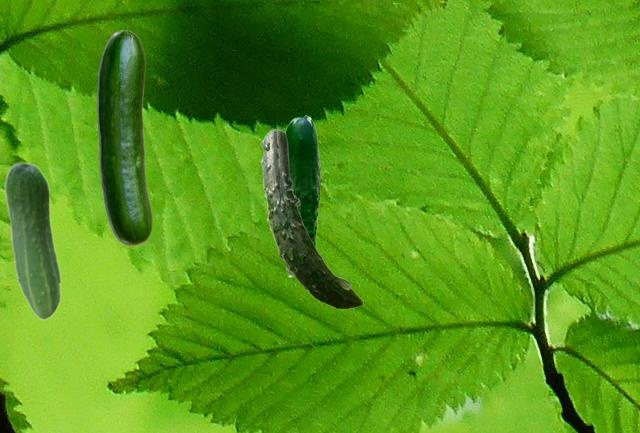cucumber: (260, 129, 362, 308), (97, 30, 151, 244), (4, 161, 61, 319), (285, 115, 321, 247)
